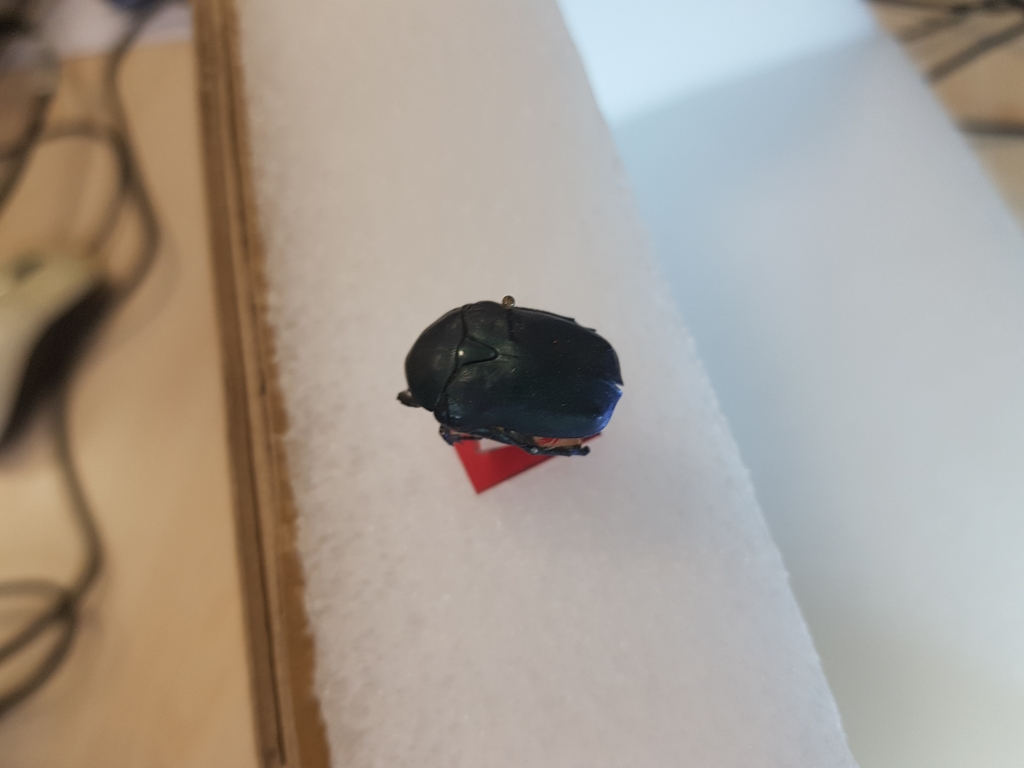Protaetia_afflicta: (386, 297, 629, 461)
